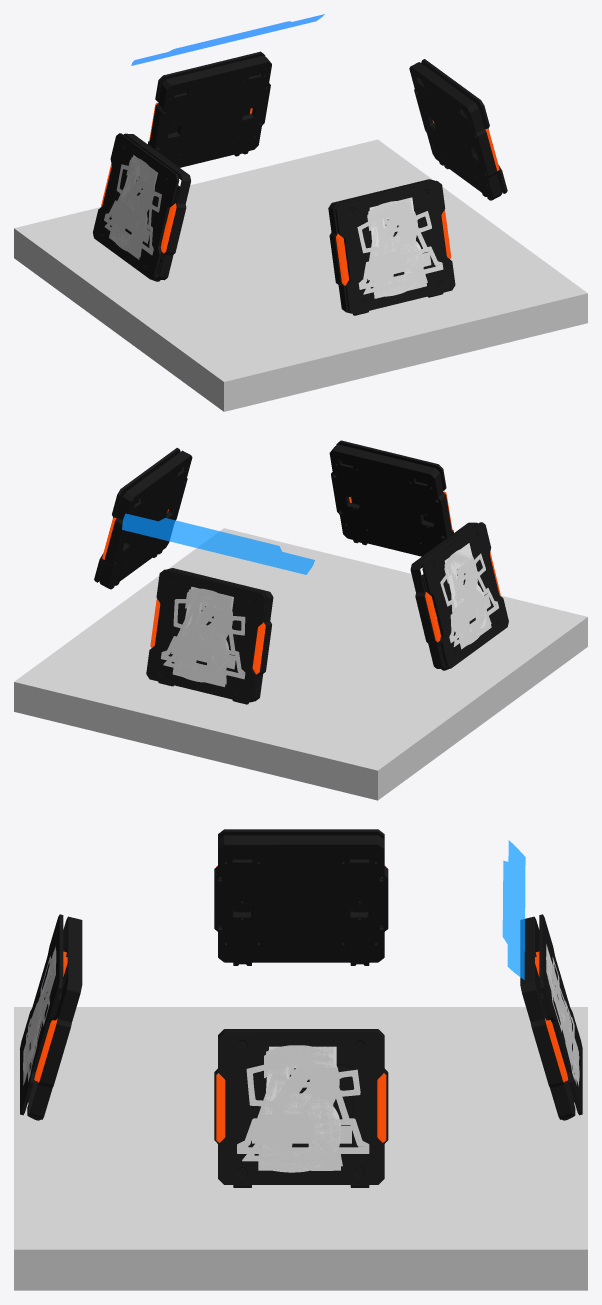
3 views of the same model, one above another, from view 1: azimuth 30°, elevation 25°; view 2: azimuth 150°, elevation 25°; view 3: azimuth 270°, elevation 25° (orthographic). The views are drawn at different scales.
Visible parts, largest first — view 1: rec, 1_ARMOR_BASE, 3_ARMOR_BASE, 2_ARMOR, _ARMOR, _ARMOR_C, 2_ARMOR_C, _ARMOR_BASE, 2G, 2B, 2_ARMOR_BASE, LIGHTBAR (+5 smaller); view 2: rec, 2_ARMOR_BASE, 3_ARMOR_BASE, 1_ARMOR, _ARMOR, LIGHTBAR, 1_ARMOR_C, _ARMOR_C, 1B, _ARMOR_BASE, 1O, 1_ARMOR_BASE (+3 smaller); view 3: rec, _ARMOR_BASE, 3_ARMOR, 3_ARMOR_C, 3B, 2_ARMOR_BASE, 1_ARMOR_BASE, 3G, LIGHTBAR, 3O, 1_ARMOR, 2_ARMOR (+7 smaller).
Part boxes in pixels (left/top/right/bottom): rec: left=14, top=139, right=587, bottom=411; 1_ARMOR_BASE: left=149, top=55, right=271, bottom=167; 3_ARMOR_BASE: left=409, top=62, right=502, bottom=200; 2_ARMOR: left=335, top=180, right=455, bottom=314; _ARMOR: left=93, top=133, right=179, bottom=279; _ARMOR_C: left=109, top=155, right=157, bottom=259; 2_ARMOR_C: left=366, top=197, right=431, bottom=298; _ARMOR_BASE: left=101, top=133, right=190, bottom=281; 2G: left=357, top=207, right=431, bottom=294; 2B: left=358, top=208, right=443, bottom=289; 2_ARMOR_BASE: left=328, top=179, right=444, bottom=315; LIGHTBAR: left=131, top=14, right=324, bottom=65; rec: left=14, top=528, right=587, bottom=800; 2_ARMOR_BASE: left=329, top=444, right=452, bottom=556; 3_ARMOR_BASE: left=99, top=450, right=192, bottom=589; 1_ARMOR: left=146, top=569, right=266, bottom=703; _ARMOR: left=422, top=522, right=508, bottom=668; LIGHTBAR: left=122, top=513, right=314, bottom=574; 1_ARMOR_C: left=171, top=586, right=235, bottom=687; _ARMOR_C: left=444, top=543, right=491, bottom=649; 1B: left=161, top=598, right=245, bottom=679; _ARMOR_BASE: left=410, top=522, right=500, bottom=670; 1O: left=174, top=590, right=226, bottom=684; 1_ARMOR_BASE: left=157, top=568, right=273, bottom=704; rec: left=14, top=1007, right=587, bottom=1290; _ARMOR_BASE: left=214, top=835, right=388, bottom=965; 3_ARMOR: left=218, top=1032, right=384, bottom=1184; 3_ARMOR_C: left=252, top=1045, right=351, bottom=1172; 3B: left=237, top=1059, right=369, bottom=1153; 2_ARMOR_BASE: left=22, top=916, right=82, bottom=1120; 1_ARMOR_BASE: left=520, top=916, right=580, bottom=1120; 3G: left=242, top=1055, right=360, bottom=1161; LIGHTBAR: left=502, top=840, right=525, bottom=979; 3O: left=259, top=1050, right=342, bottom=1166; 1_ARMOR: left=539, top=914, right=582, bottom=1115; 2_ARMOR: left=20, top=914, right=63, bottom=1115.
Bounding box in the file's own units: 0.4648 × 0.2446 × 0.4648.
